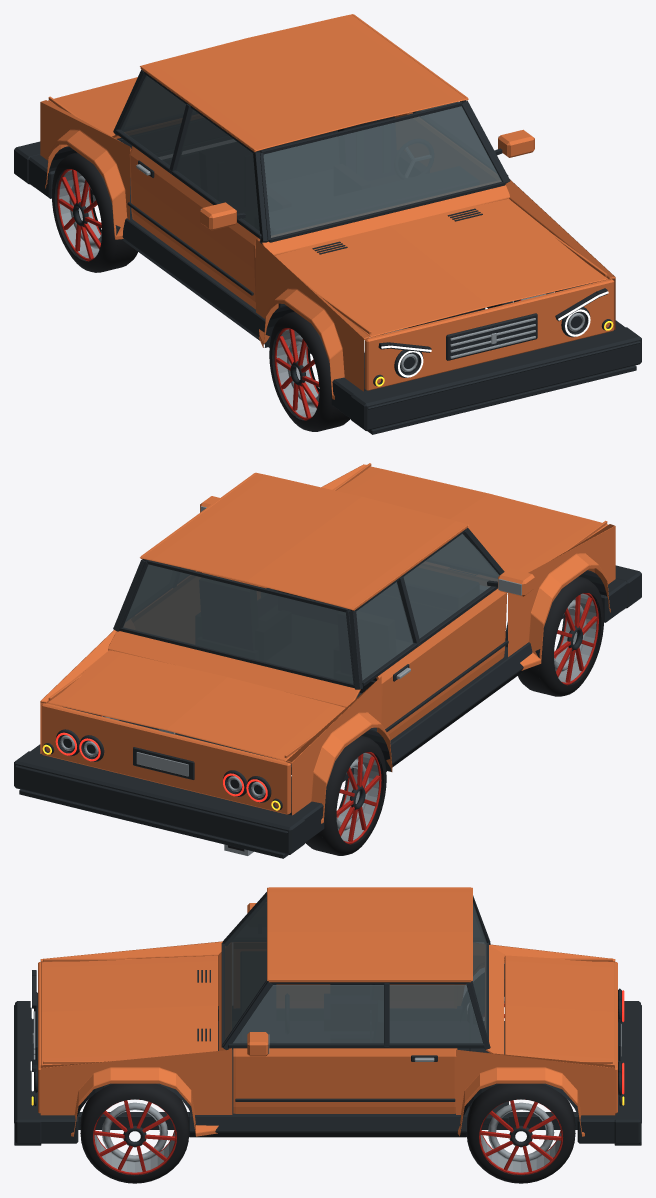
File: bulancia-r001.glb
3 views of the same model, one above another, from view 1: azimuth 30°, elevation 25°; view 2: azimuth 150°, elevation 25°; view 3: azimuth 270°, elevation 25° (orthographic). The views are drawn at different scales.
Visible parts, largest first — view 1: hood.paint, roof.paint, windshield.glass.001, front-bumper.dark, front-grille.paint, right-window.glass, right-door.paint, right-front-fender.paint, right-rear-quarter.paint, right-sill.dark, frame.dark, wheel:3.rubber (+17 smaller); view 2: roof.paint, trunk.paint, rear-window.glass.001, rear-bumper.dark, hood.paint, rear-panel.paint, right-window.glass, right-door.paint, right-front-fender.paint, frame.paint, right-rear-quarter.paint, right-sill.dark (+16 smaller); view 3: roof.paint, hood.paint, left-door.paint, left-window.glass, trunk.paint, left-front-fender.paint, left-sill.dark, left-rear-quarter.paint, frame.dark, rear-bumper.dark, wheel:0.rubber, wheel:2.rubber (+16 smaller).
Boxes of the visible parts, x1,y1,x2,y2 form: hood.paint: (275, 198, 607, 337); roof.paint: (140, 14, 468, 152); windshield.glass.001: (263, 106, 501, 237); front-bumper.dark: (331, 320, 641, 434); front-grille.paint: (364, 279, 614, 390); right-window.glass: (120, 75, 259, 231); right-door.paint: (129, 146, 260, 309); right-front-fender.paint: (256, 239, 369, 399); right-rear-quarter.paint: (40, 100, 131, 239); right-sill.dark: (122, 216, 269, 347); frame.dark: (92, 69, 513, 354); wheel:3.rubber: (52, 152, 137, 272); roof.paint: (140, 472, 468, 610); trunk.paint: (48, 650, 345, 761); rear-window.glass.001: (122, 564, 353, 683); rear-bumper.dark: (14, 744, 324, 858); hood.paint: (333, 463, 607, 572); rear-panel.paint: (41, 703, 291, 814); right-window.glass: (356, 534, 499, 680); right-door.paint: (376, 588, 507, 740); right-front-fender.paint: (508, 524, 615, 670); frame.paint: (108, 631, 360, 707); right-rear-quarter.paint: (286, 676, 392, 823); right-sill.dark: (386, 642, 532, 771); roof.paint: (267, 887, 472, 982); hood.paint: (41, 955, 217, 1065); left-door.paint: (233, 1048, 457, 1113); left-window.glass: (233, 985, 482, 1043); trunk.paint: (505, 955, 614, 1065); left-front-fender.paint: (40, 1049, 232, 1136); left-sill.dark: (189, 1112, 466, 1137); left-rear-quarter.paint: (456, 1049, 615, 1136); frame.dark: (77, 892, 578, 1129); rear-bumper.dark: (577, 1001, 641, 1145); wheel:0.rubber: (80, 1083, 189, 1183); wheel:2.rubber: (466, 1083, 575, 1183).
Size of the model in its own units: 2.21 by 1.42 by 4.16.
